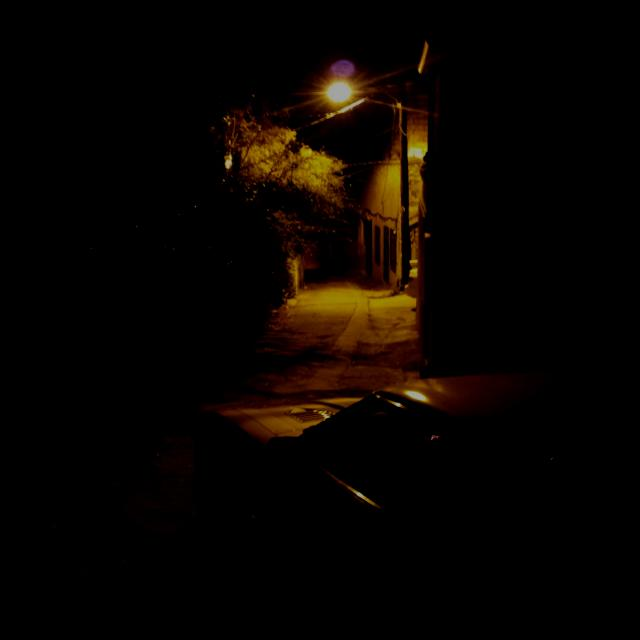Car: (192, 371, 640, 631)
